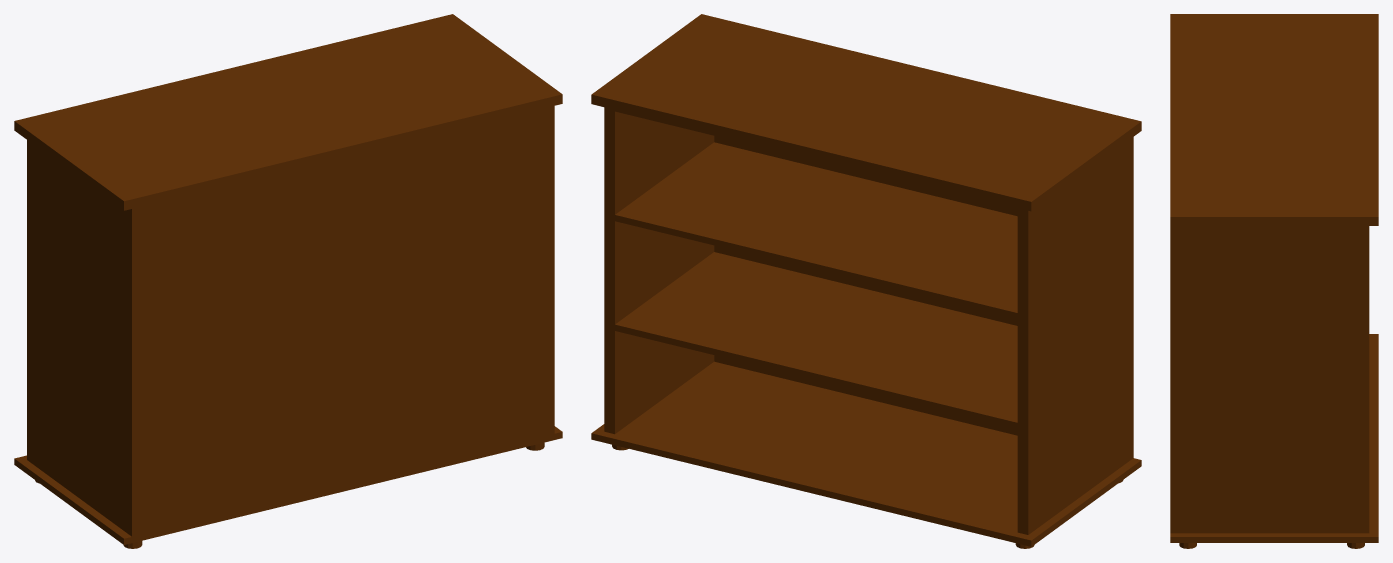
File: prop_kirjahylly.fbx
3 renders of one model, left to right at view 1: azimuth 30°, elevation 25°; view 2: azimuth 150°, elevation 25°; view 3: azimuth 270°, elevation 25°, orthographic. The views are drawn at different scales.
Parts seen in each view (by area): view 1: Cube; view 2: Cube; view 3: Cube.
Boxes of the visible parts, x1,y1,x2,y2 form: Cube: [14, 14, 562, 548]; Cube: [591, 14, 1141, 548]; Cube: [1170, 14, 1378, 548].
Bounding box in the file's own units: 322 × 249 × 140.
